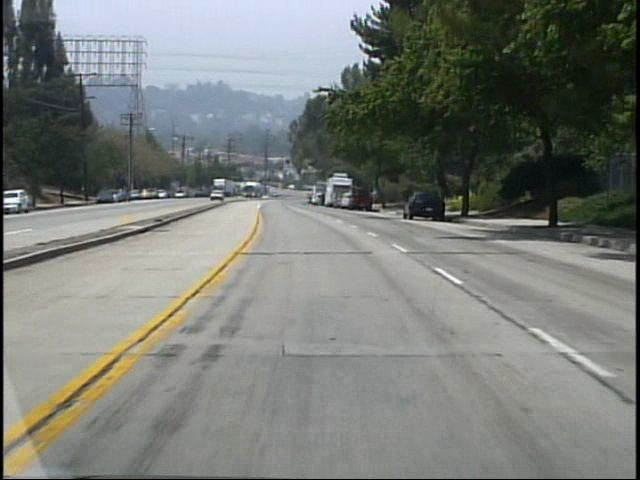person: (369, 183, 380, 207)
